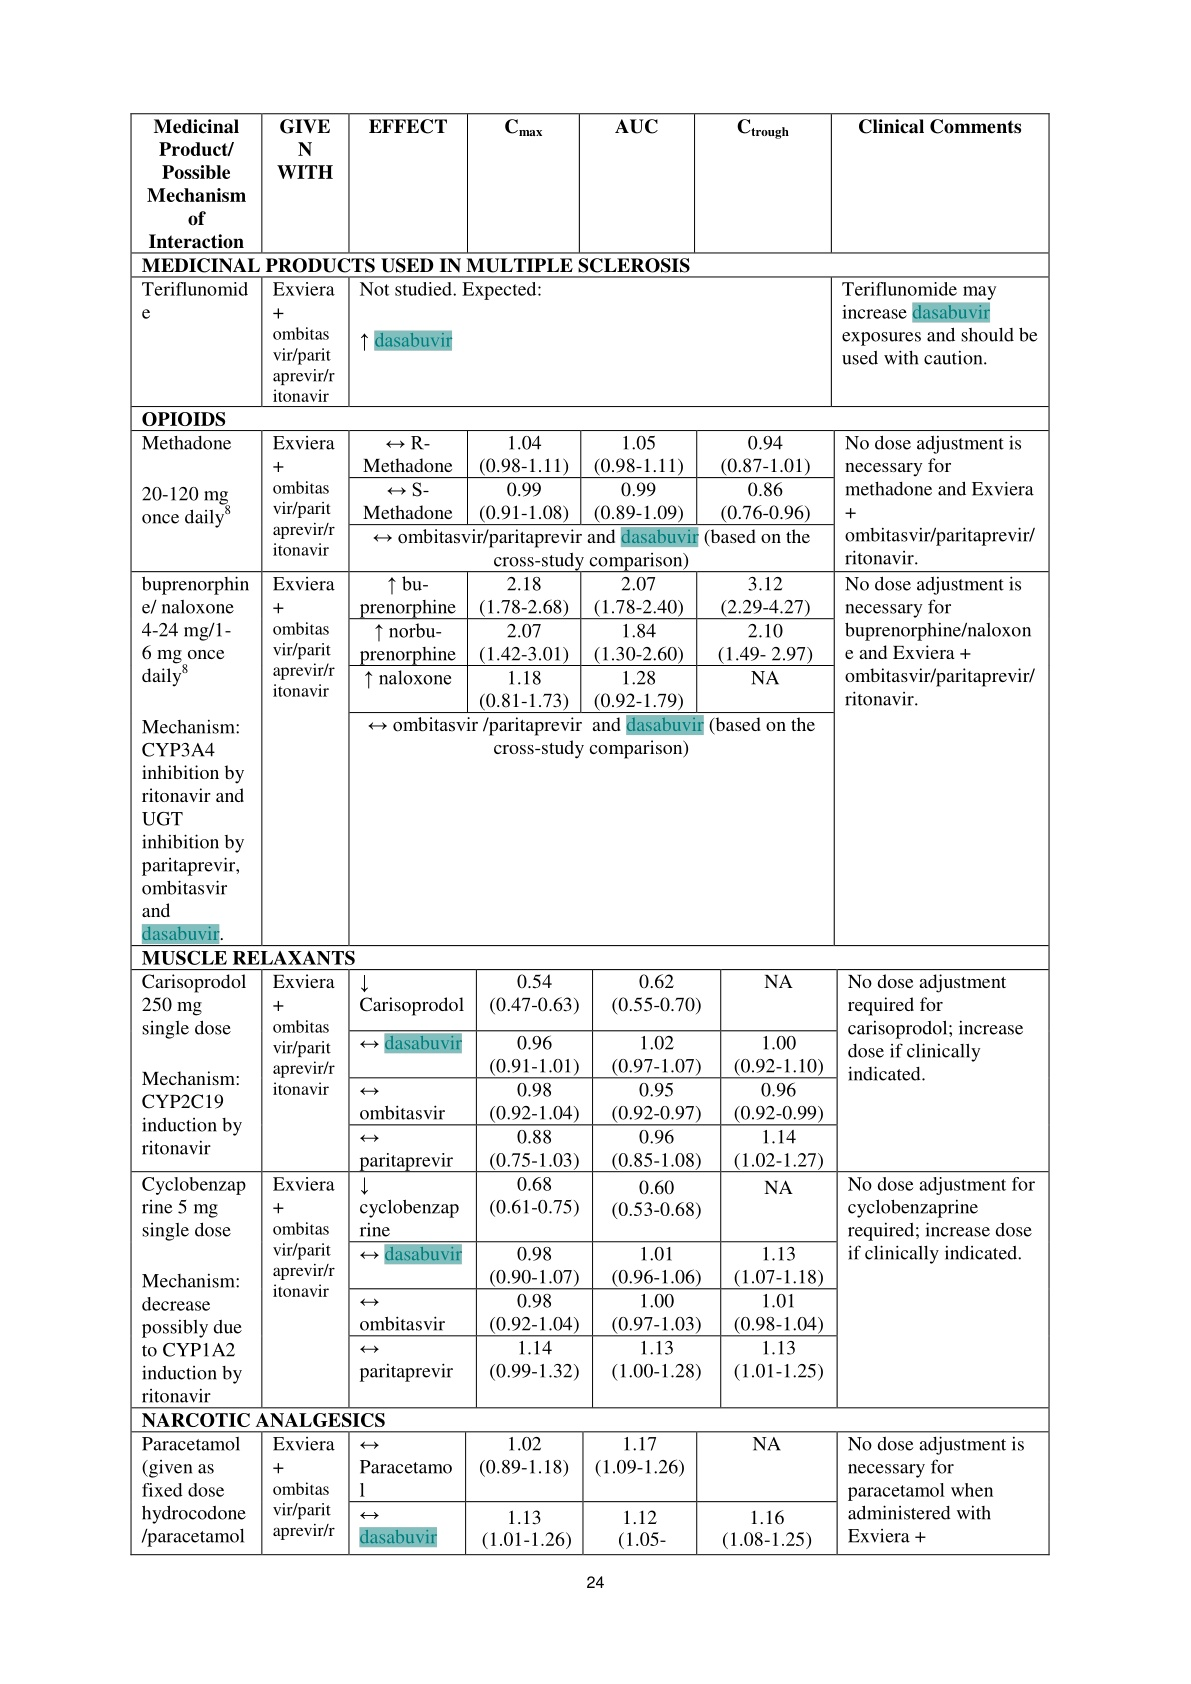merged_cells: (128, 112, 1051, 1556)
